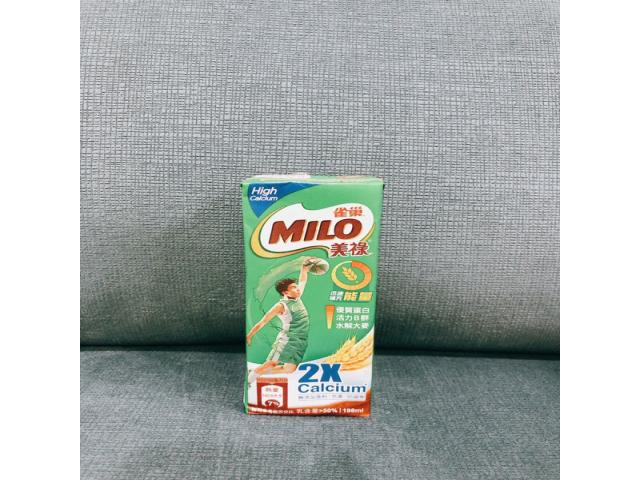drink_box: (242, 175, 384, 416)
